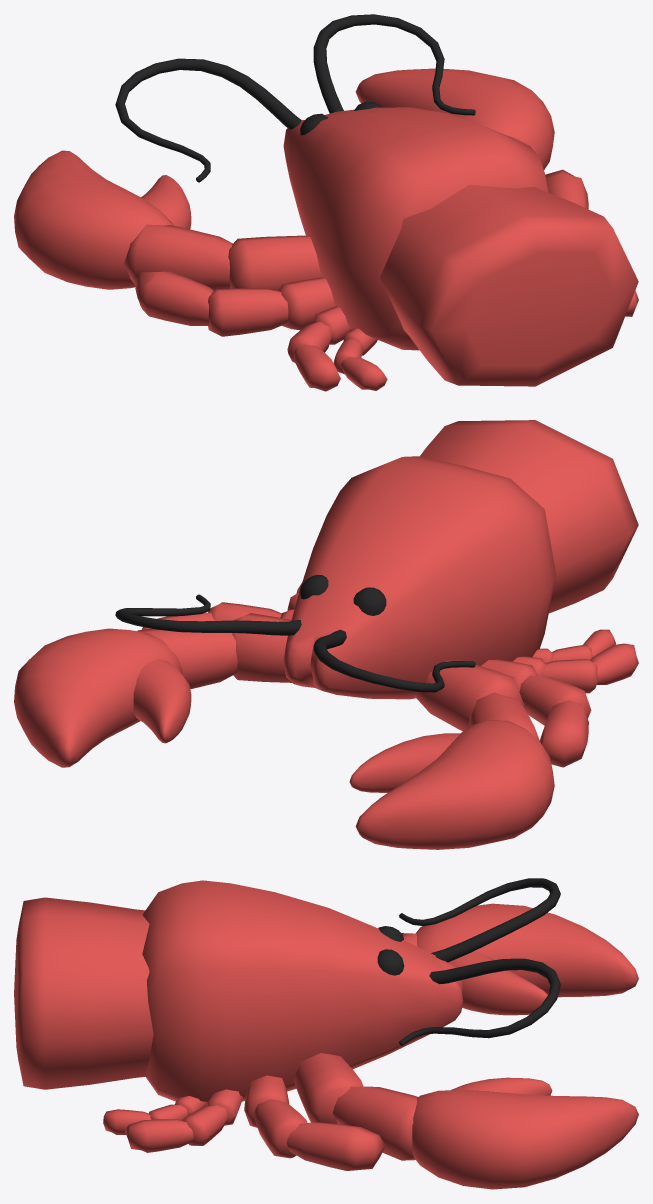
Rendered from Lobster_1_Half_1.fbx.
The picture shows the model from 3 angles, top to bottom: view 1: azimuth 30°, elevation 25°; view 2: azimuth 150°, elevation 25°; view 3: azimuth 270°, elevation 25°; orthographic projection. The views are drawn at different scales.
Parts seen in each view (by area): view 1: Lobster_1_Half_1; view 2: Lobster_1_Half_1; view 3: Lobster_1_Half_1.
Part boxes in pixels (bbox=[...]): Lobster_1_Half_1: bbox=[14, 14, 638, 391]; Lobster_1_Half_1: bbox=[14, 420, 638, 849]; Lobster_1_Half_1: bbox=[14, 878, 638, 1189].
Size of the model in its own units: 38.24 by 13.76 by 42.19.
